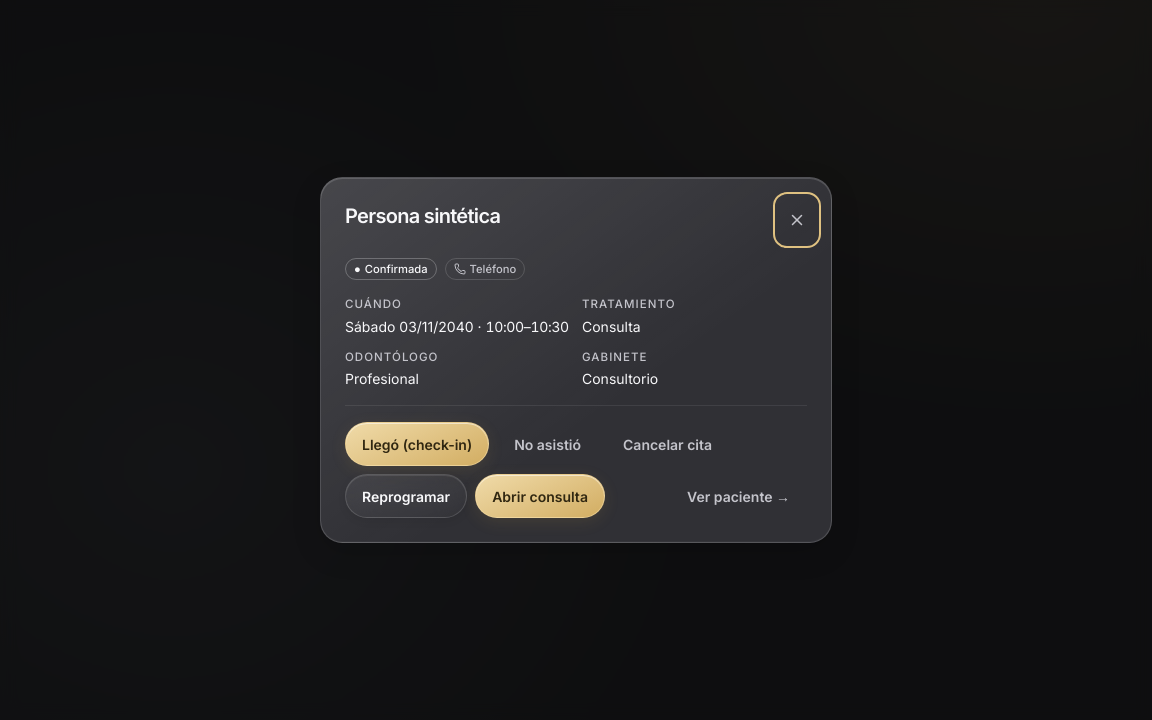
Test: formularios de citas: recuperación y selección vigente › un rechazo al cambiar el estado no deja las acciones bloqueadas
Click the button "Llegó (check-in)" at [417, 444], box [345,422,489,466]
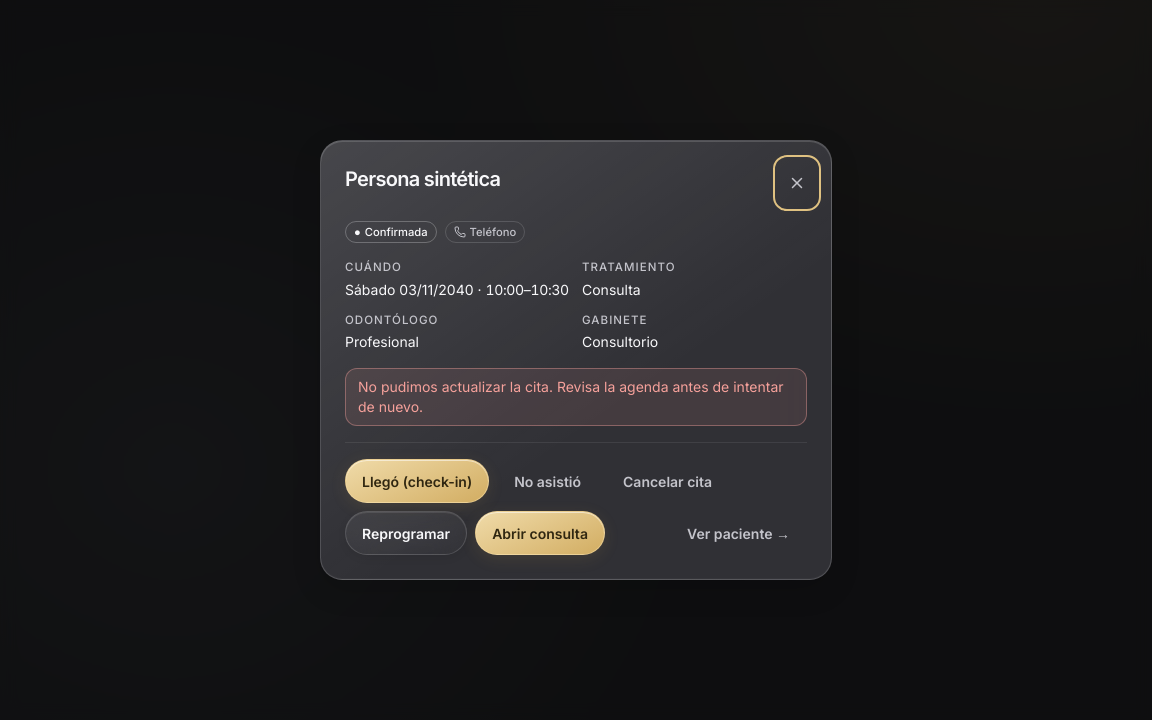
expect the button "Llegó (check-in)" is enabled: met, box [345,459,489,503]
expect the message shows "No pudimos actualizar la cita": met, box [358,378,784,415]
